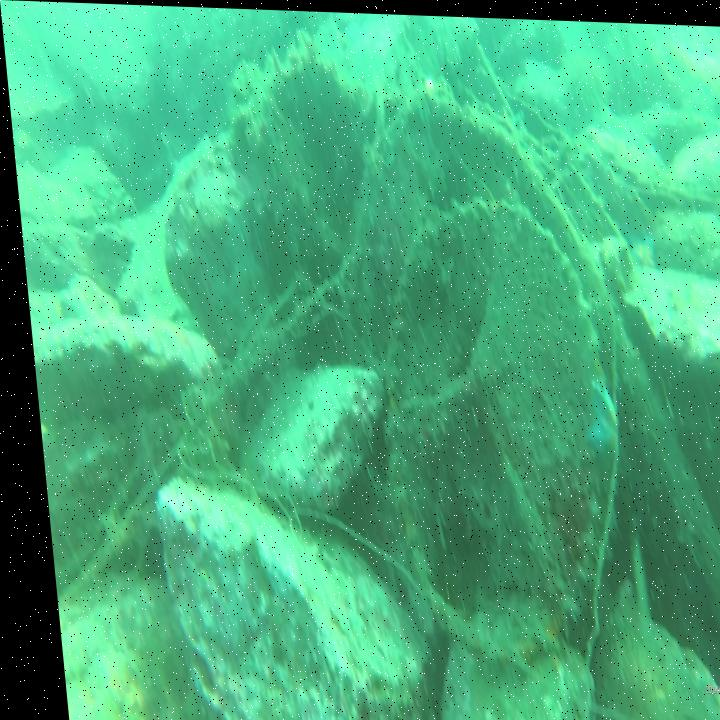echinus: (592, 626, 684, 720), (85, 114, 139, 185)
starfish: (572, 364, 615, 463), (620, 220, 656, 271)
